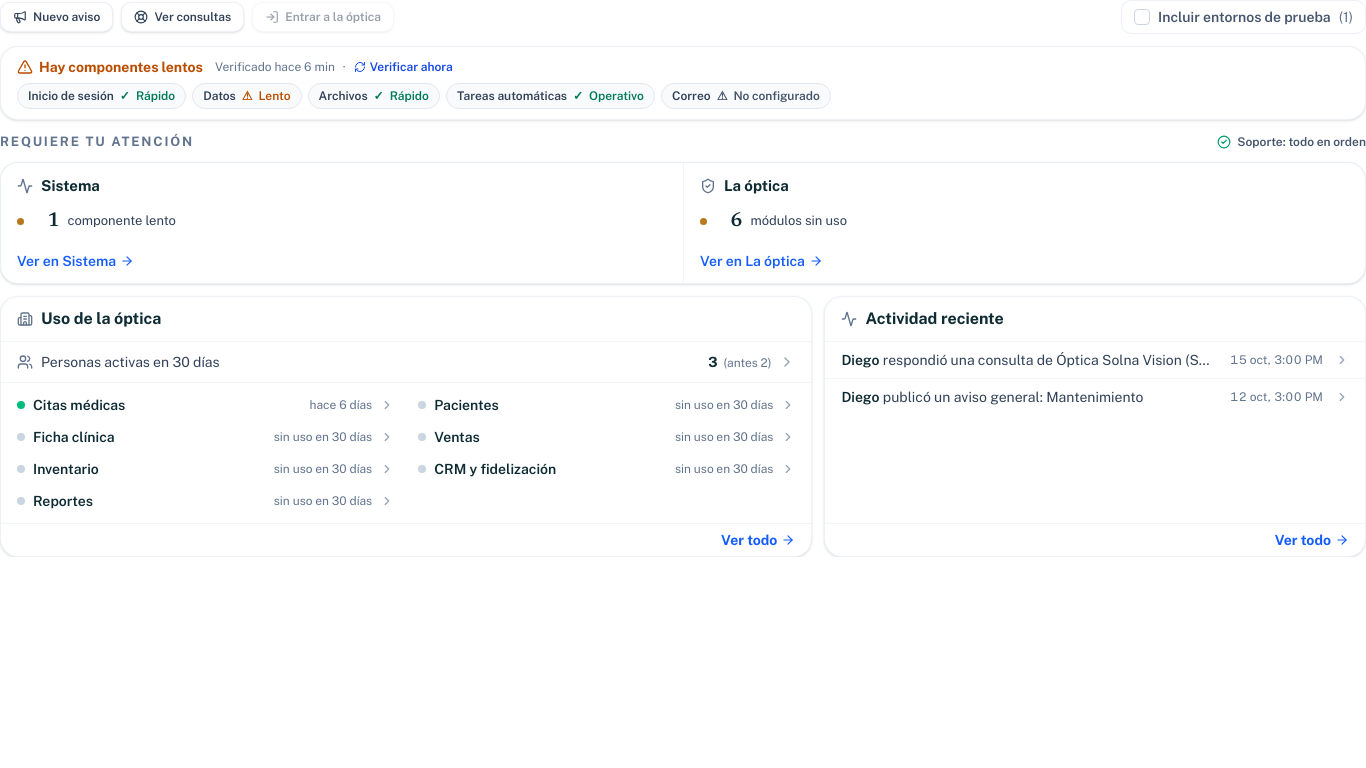
Test: Inicio del superadmin: íconos en las ventanas › los componentes y los módulos llevan su ícono, no sus iniciales
Expected: the element named "Requiere tu atención: Sistema" is shown, [1, 162, 683, 283]
Step 1. Click the button "1 componente lento" → {"x": 122, "y": 221}, box [17, 203, 667, 239]
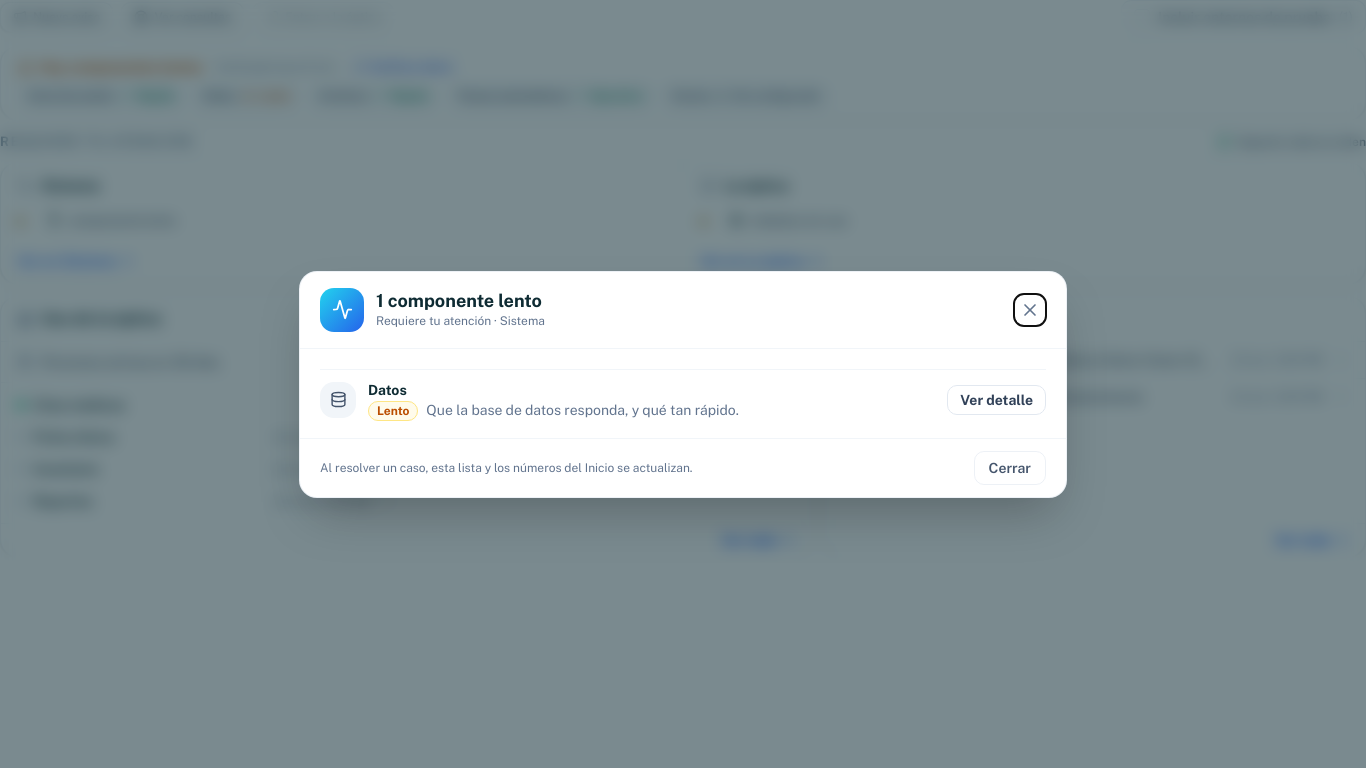
Now the icon with class "lucide-database" is shown, box [330, 391, 346, 408]
Step 2. Click the button "Cerrar" → {"x": 1010, "y": 468}, box [974, 450, 1046, 484]
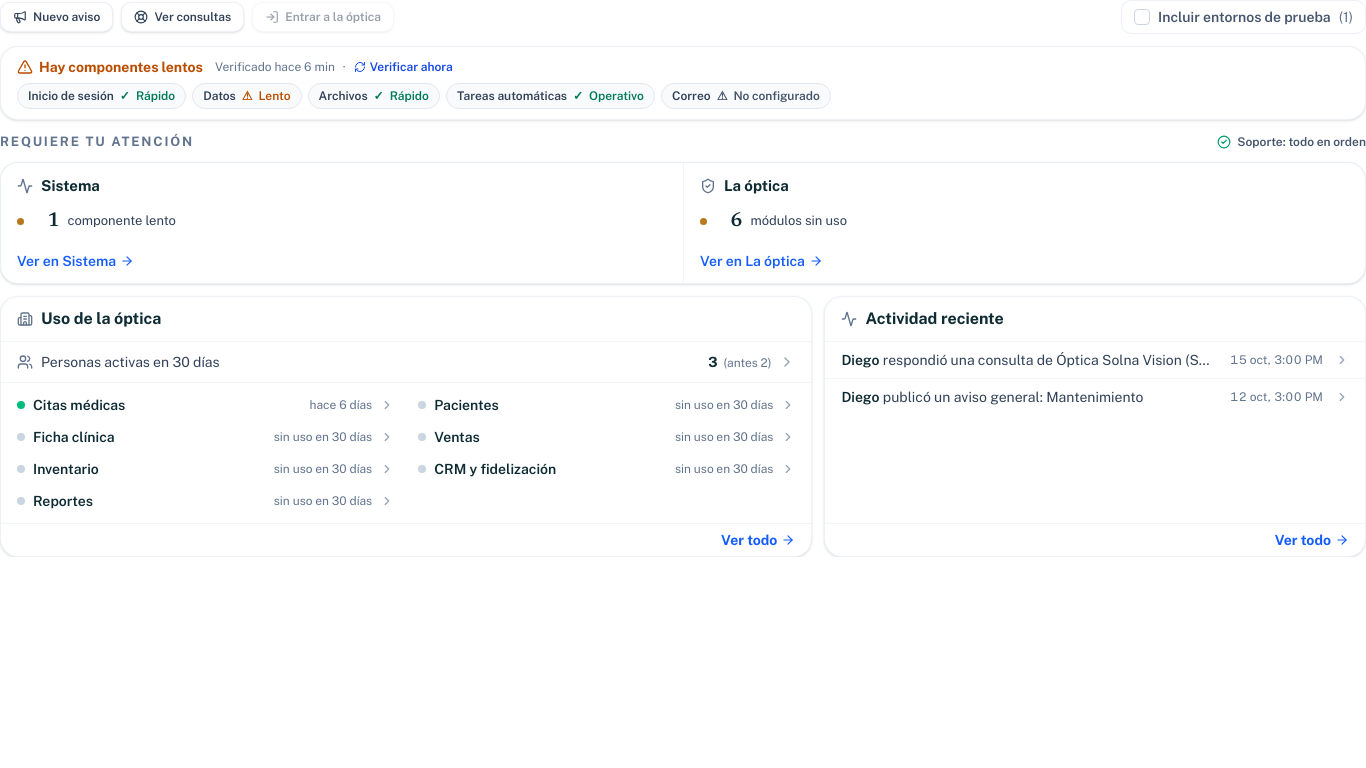
Step 3. Click the button "6 módulos sin uso" → {"x": 799, "y": 221}, box [700, 203, 1349, 239]
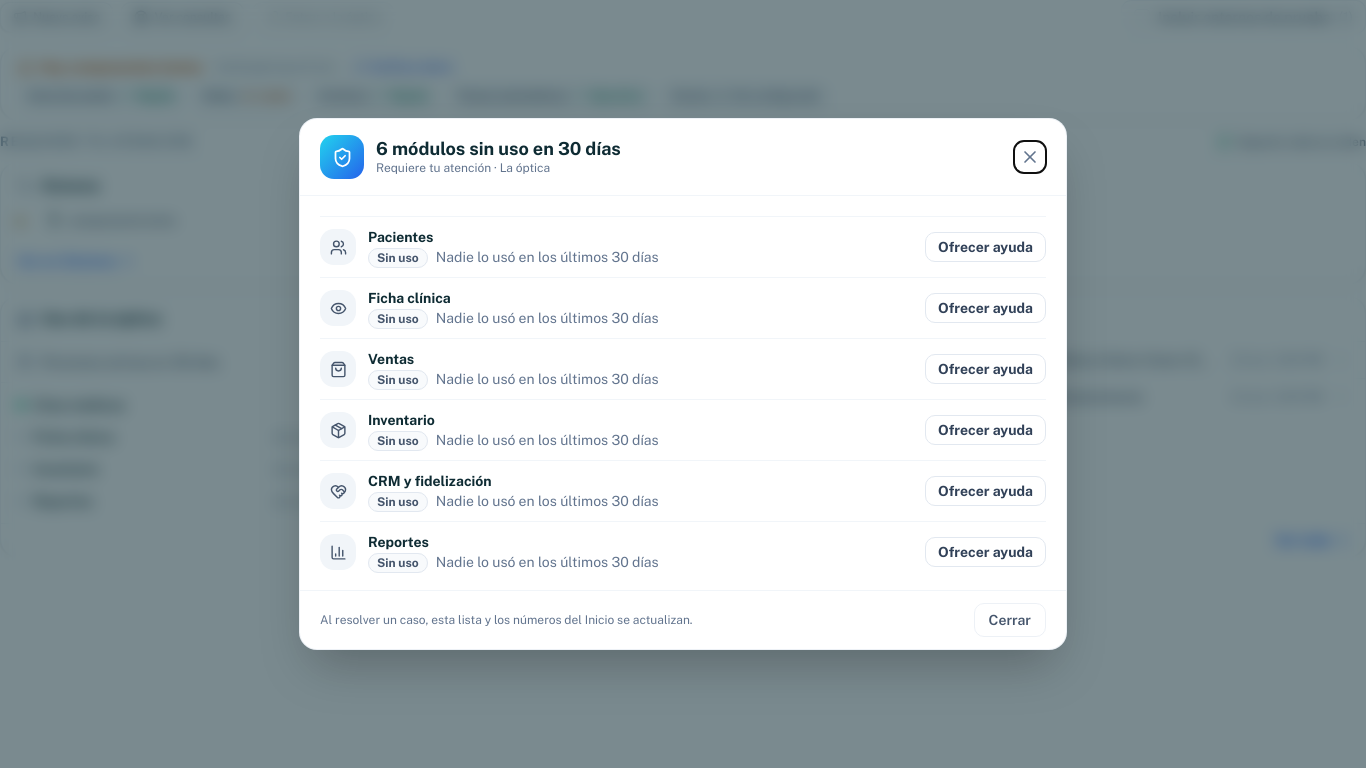
Now the icon with class "lucide-shopping-bag" is shown, box [330, 360, 346, 378]
